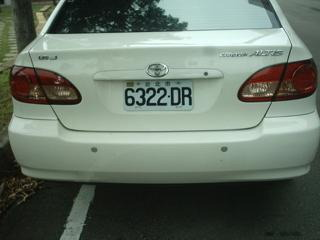plate: (122, 80, 195, 111)
